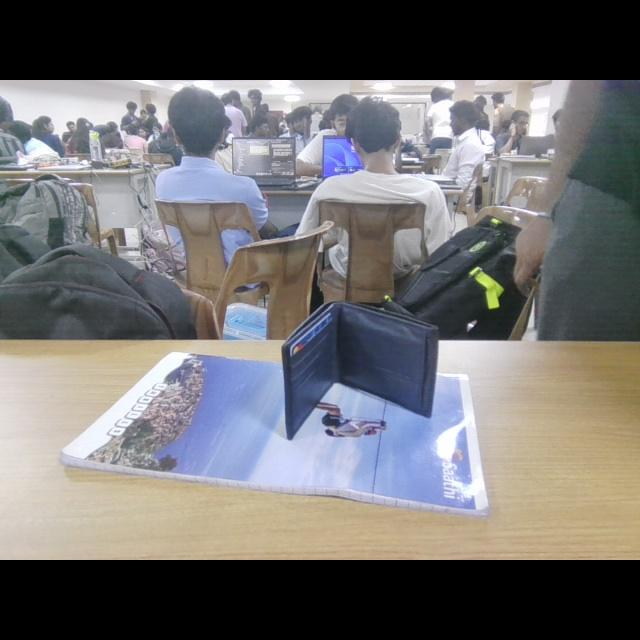wallet: (266, 294, 488, 446)
